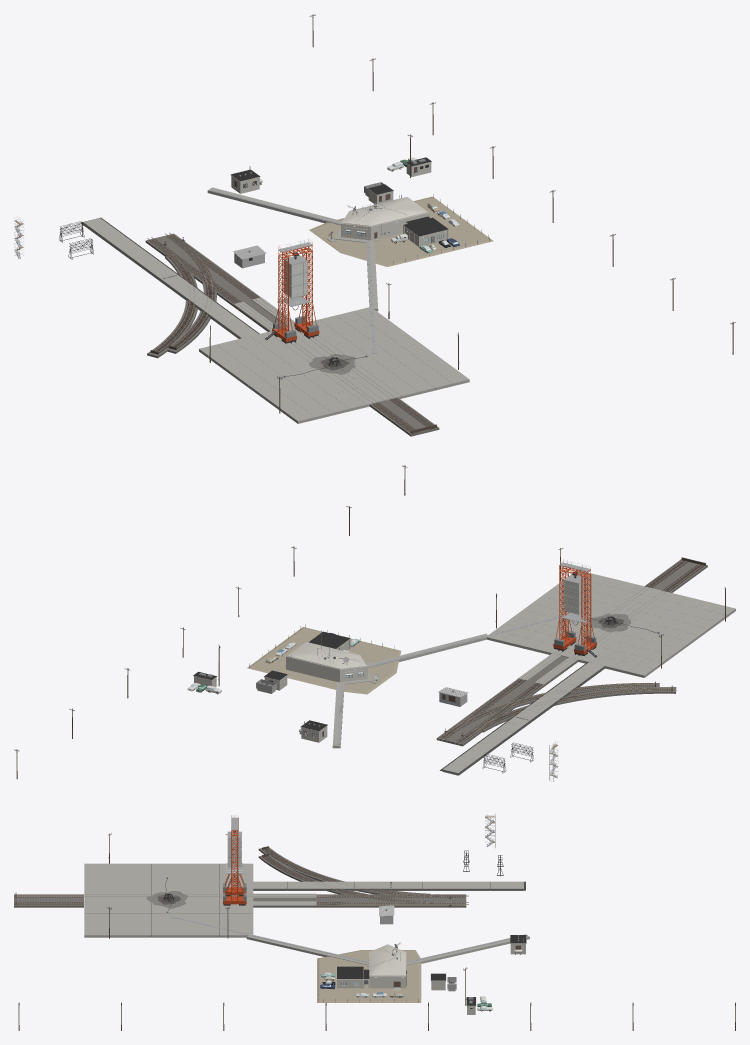
3 views of the same model, one above another, from view 1: azimuth 30°, elevation 25°; view 2: azimuth 150°, elevation 25°; view 3: azimuth 270°, elevation 25° (orthographic). The views are drawn at different scales.
Visible parts, largest first — view 1: Pad6_Concrete, Track_Ballast, Blockhouse_Shell, Track_Tie, Road_Concrete, Pad6Gantry_Red, Track_Rail, Blockhouse_BunkerRoof, CableTrenches_ConcreteTrench, Track_BallastSpur, Blockhouse_Bunker, Road_Joint (+2 smaller); view 2: Pad6_Concrete, Track_Ballast, Blockhouse_Shell, Track_Tie, Road_Concrete, Track_Rail, Pad6Gantry_Red, Track_BallastSpur, Blockhouse_Bunker, Blockhouse_BunkerRoof, CableTrenches_ConcreteTrench, Road_Joint (+2 smaller); view 3: Pad6_Concrete, Track_Ballast, Blockhouse_Shell, Road_Concrete, Track_Rail, Track_Tie, Track_BallastSpur, CableTrenches_ConcreteTrench, Blockhouse_BunkerRoof, Pad6Gantry_Red, Track_Concrete, Road_Joint (+5 smaller).
Part boxes in pixels (x1=…): Pad6_Concrete: x1=199, y1=307, x2=469, y2=423; Track_Ballast: x1=145, y1=233, x2=439, y2=436; Blockhouse_Shell: x1=309, y1=196, x2=493, y2=266; Track_Tie: x1=148, y1=234, x2=437, y2=433; Road_Concrete: x1=83, y1=218, x2=258, y2=337; Pad6Gantry_Red: x1=272, y1=245, x2=319, y2=341; Track_Rail: x1=147, y1=232, x2=432, y2=430; Blockhouse_BunkerRoof: x1=342, y1=197, x2=427, y2=225; CableTrenches_ConcreteTrench: x1=207, y1=187, x2=378, y2=311; Track_BallastSpur: x1=147, y1=256, x2=216, y2=358; Blockhouse_Bunker: x1=341, y1=197, x2=429, y2=240; Road_Joint: x1=80, y1=217, x2=259, y2=338; Pad6_Concrete: x1=486, y1=570, x2=735, y2=677; Track_Ballast: x1=436, y1=559, x2=707, y2=746; Blockhouse_Shell: x1=247, y1=627, x2=401, y2=694; Track_Tie: x1=439, y1=557, x2=705, y2=743; Road_Concrete: x1=442, y1=662, x2=604, y2=775; Track_Rail: x1=438, y1=560, x2=703, y2=744; Pad6Gantry_Red: x1=553, y1=565, x2=596, y2=654; Track_BallastSpur: x1=482, y1=683, x2=676, y2=732; Blockhouse_Bunker: x1=286, y1=642, x2=367, y2=682; Blockhouse_BunkerRoof: x1=288, y1=642, x2=366, y2=668; CableTrenches_ConcreteTrench: x1=332, y1=633, x2=487, y2=748; Road_Joint: x1=440, y1=662, x2=606, y2=775; Pad6_Concrete: x1=84, y1=863, x2=253, y2=937; Track_Ballast: x1=14, y1=894, x2=466, y2=907; Blockhouse_Shell: x1=317, y1=950, x2=421, y2=1002; Road_Concrete: x1=253, y1=881, x2=523, y2=890; Track_Rail: x1=16, y1=848, x2=468, y2=904; Track_Tie: x1=14, y1=846, x2=464, y2=906; Track_BallastSpur: x1=258, y1=847, x2=430, y2=894; CableTrenches_ConcreteTrench: x1=246, y1=934, x2=529, y2=965; Blockhouse_BunkerRoof: x1=370, y1=944, x2=405, y2=975; Pad6Gantry_Red: x1=223, y1=818, x2=246, y2=904; Track_Concrete: x1=253, y1=893, x2=316, y2=905; Road_Joint: x1=253, y1=881, x2=525, y2=890.
Size of the model in its own units: 157 by 34.17 by 260.
